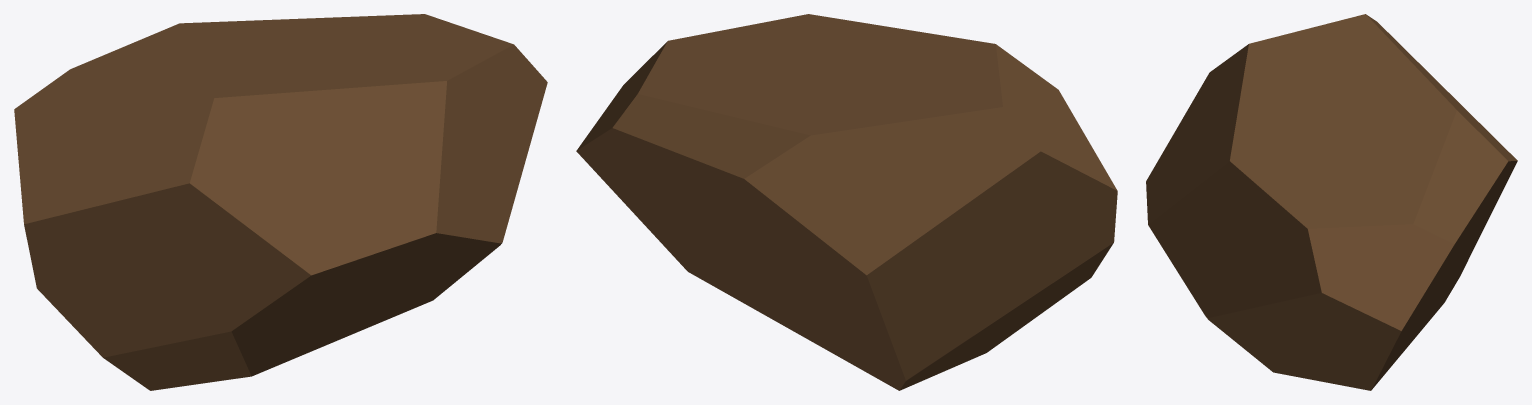
File: stone-oval_brown.glb
3 views of the same model, side by side, from view 1: azimuth 30°, elevation 25°; view 2: azimuth 150°, elevation 25°; view 3: azimuth 270°, elevation 25° (orthographic). The views are drawn at different scales.
Visible parts, largest first — view 1: stone-oval_brown; view 2: stone-oval_brown; view 3: stone-oval_brown.
Boxes of the visible parts, x1,y1,x2,y2 form: stone-oval_brown: [14, 14, 547, 390]; stone-oval_brown: [576, 14, 1117, 390]; stone-oval_brown: [1146, 14, 1517, 390].
Size of the model in its own units: 1.04 by 0.5677 by 0.7121.
Materials: 1 (1 with a texture image).
